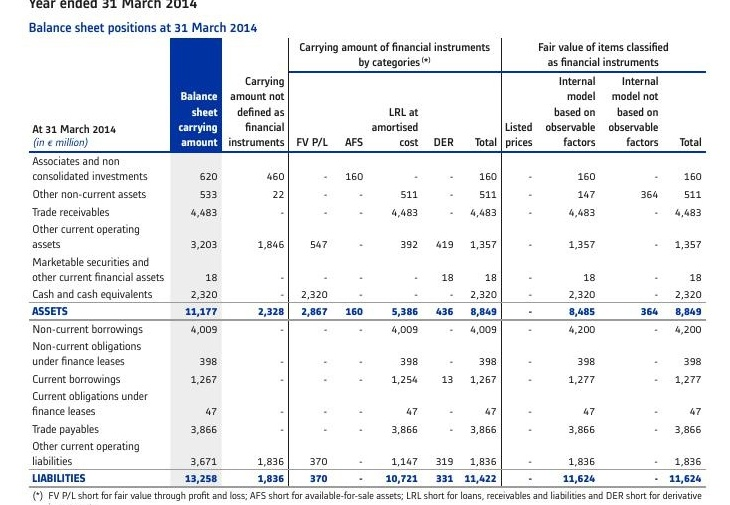table: (0, 0, 730, 505)
